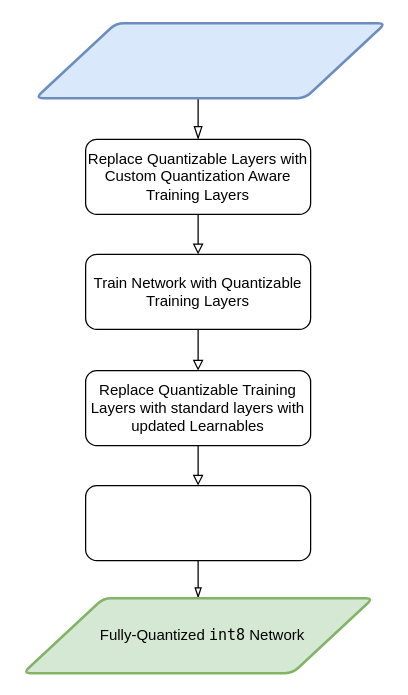
Some shapes in this 408 by 695 pixel diagram are drawn without their labels. Here are the shapes that lost their labels. From the top down, the centre of each, then its label:
At point (210, 60): "Original Trained Network".
At point (197, 522): "Perform Post-Training Quantization on Quantized Trained Network".
